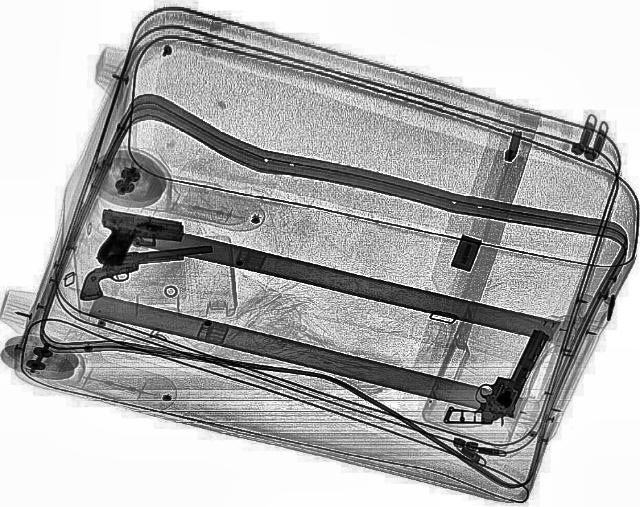Gun: (442, 320, 564, 439), (65, 230, 221, 302), (87, 208, 185, 272)
